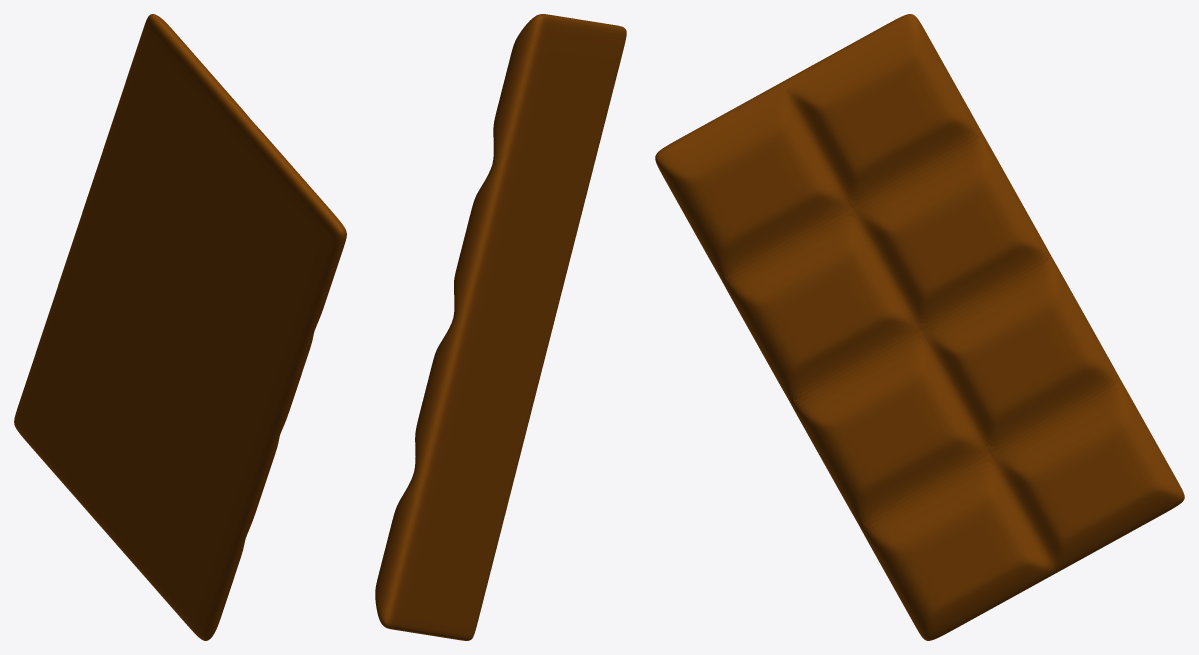
Rendered from chocolatebar1.glb.
3 views of the same model, side by side, from view 1: azimuth 30°, elevation 25°; view 2: azimuth 150°, elevation 25°; view 3: azimuth 270°, elevation 25° (orthographic). The views are drawn at different scales.
Visible parts, largest first — view 1: Cube.003; view 2: Cube.003; view 3: Cube.003.
Part boxes in pixels (x1,y1,x2,y2): Cube.003: (14,14,346,640); Cube.003: (375,14,626,640); Cube.003: (655,14,1184,640).
Bounding box in the file's own units: 0.2962 × 2.19 × 1.75.
